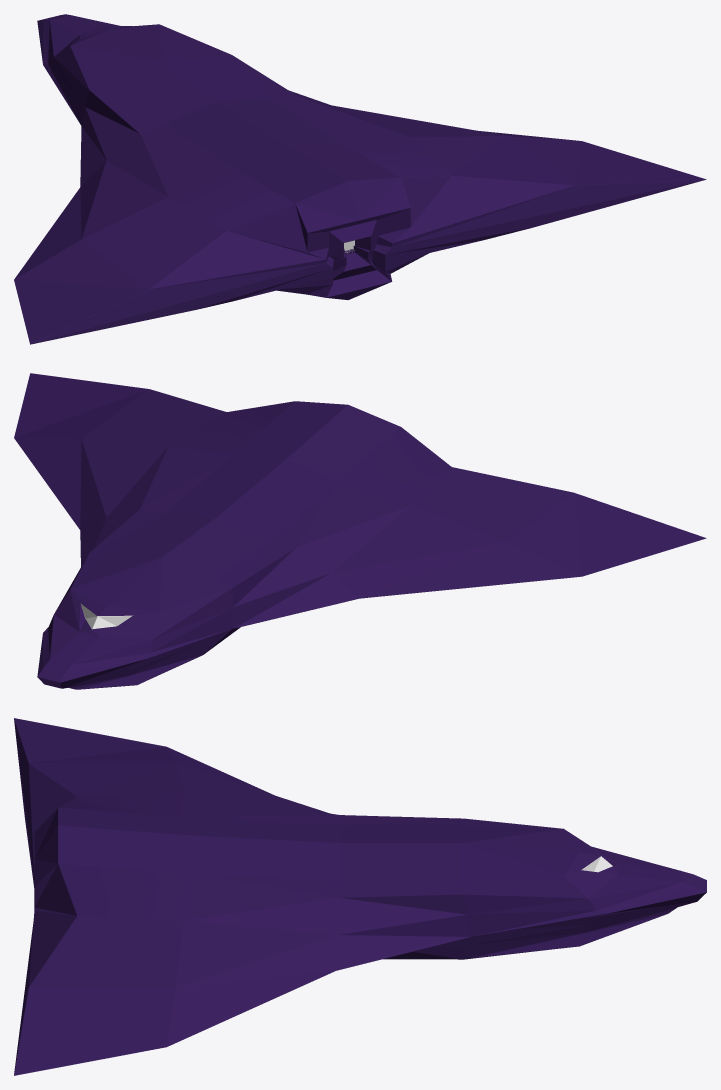
File: statek.dae
The picture shows the model from 3 angles, top to bottom: view 1: azimuth 30°, elevation 25°; view 2: azimuth 150°, elevation 25°; view 3: azimuth 270°, elevation 25°; orthographic projection. The views are drawn at different scales.
Parts seen in each view (by area): view 1: Cube; view 2: Cube; view 3: Cube.
Part boxes in pixels (x1,y1,x2,y2): Cube: [14, 14, 706, 344]; Cube: [14, 373, 706, 689]; Cube: [14, 718, 706, 1075].
Size of the model in its own units: 13.34 by 10.92 by 2.24.
